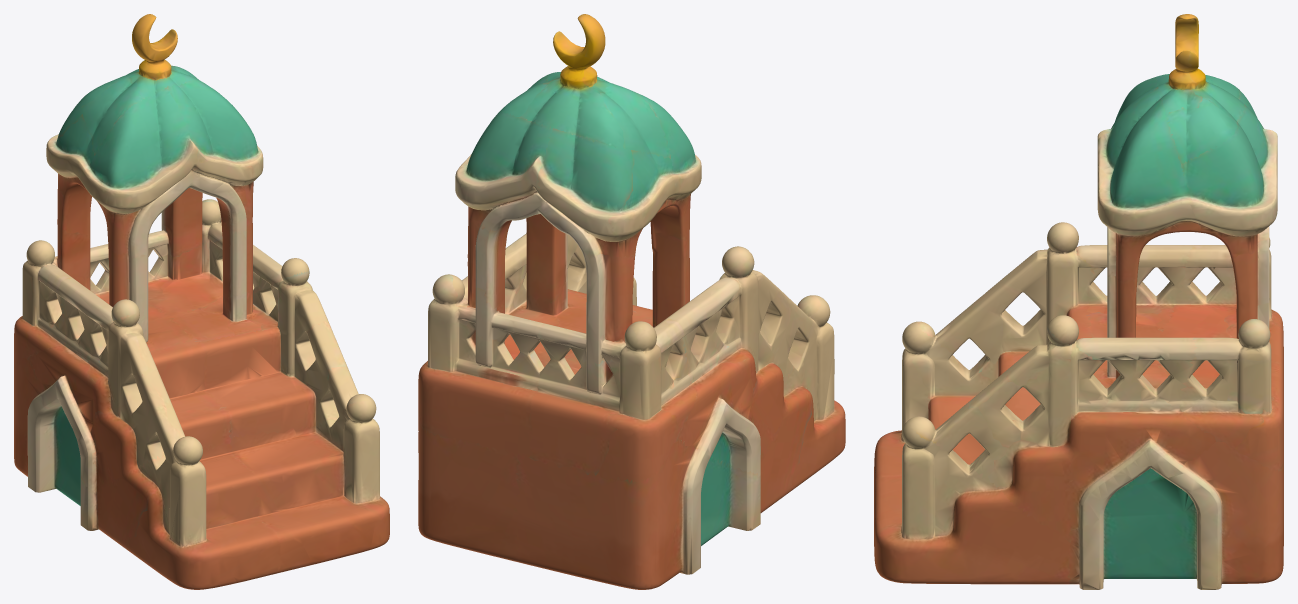
File: minbar-variant-07-twin-arch-rail.glb
3 views of the same model, side by side, from view 1: azimuth 30°, elevation 25°; view 2: azimuth 150°, elevation 25°; view 3: azimuth 270°, elevation 25° (orthographic). The views are drawn at different scales.
Parts seen in each view (by area): view 1: mesh_node; view 2: mesh_node; view 3: mesh_node.
Boxes of the visible parts, <box> form: mesh_node: <box>14,14,389,589</box>; mesh_node: <box>418,14,845,589</box>; mesh_node: <box>874,14,1283,589</box>.
Bounding box in the file's own units: 0.9944 × 1.9 × 1.38.
Materials: 1 (1 with a texture image).
